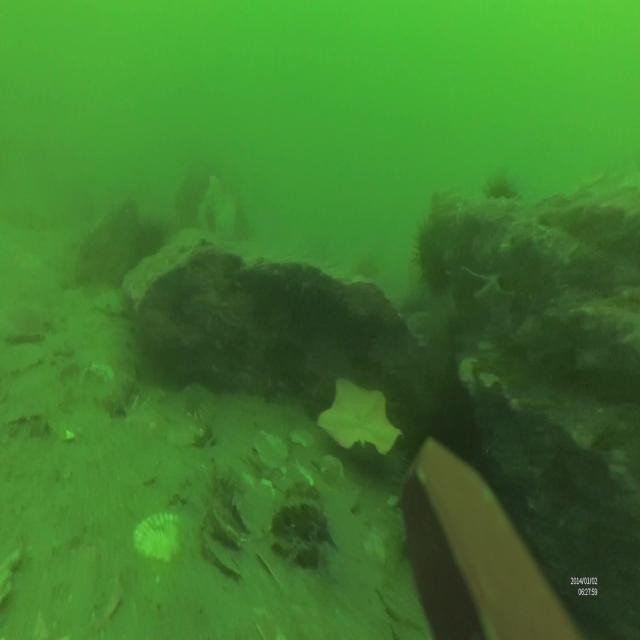echinus: (410, 214, 456, 287), (486, 175, 522, 206)
holothurian: (272, 491, 336, 549), (103, 351, 139, 418)
scallop: (132, 506, 192, 566), (251, 428, 290, 470)
starfish: (317, 369, 400, 473)
